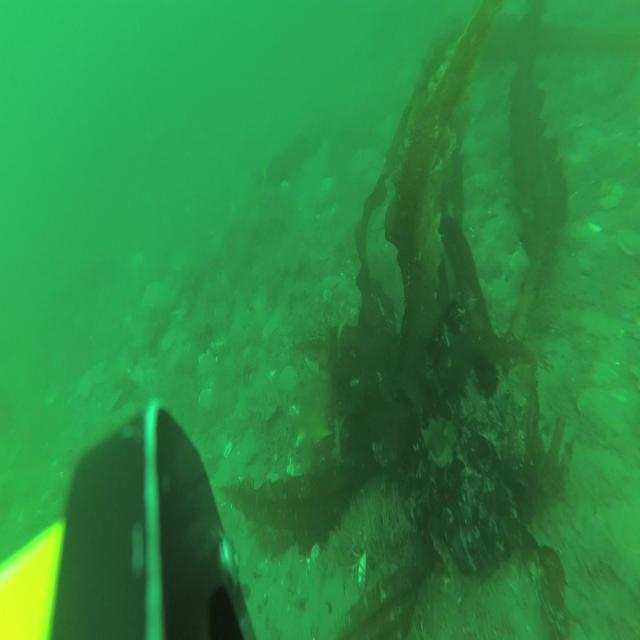scallop: (578, 385, 632, 440), (275, 366, 299, 412), (600, 181, 628, 213)
